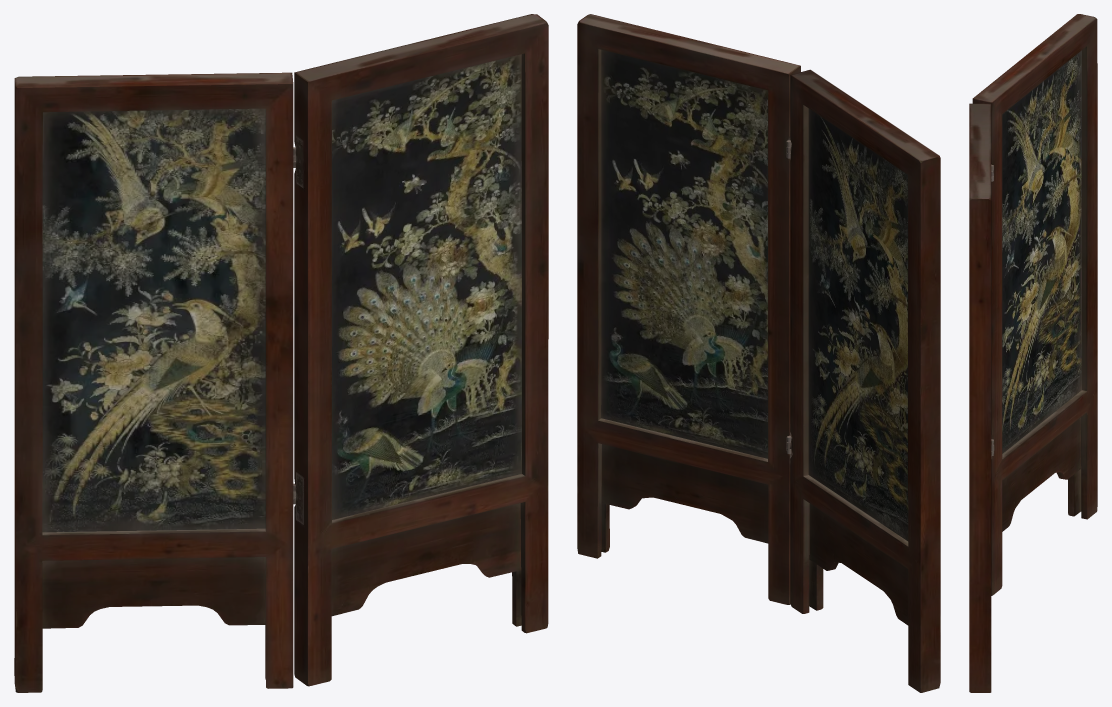
File: chinese_screen_panels.glb
The picture shows the model from 3 angles, left to right: view 1: azimuth 30°, elevation 25°; view 2: azimuth 150°, elevation 25°; view 3: azimuth 270°, elevation 25°; orthographic projection. The views are drawn at different scales.
Parts seen in each view (by area): view 1: chinese_screen_panels_a; view 2: chinese_screen_panels_a; view 3: chinese_screen_panels_a.
Part boxes in pixels (x1,y1,x2,y2): chinese_screen_panels_a: (14,14,548,692); chinese_screen_panels_a: (577,14,940,692); chinese_screen_panels_a: (969,14,1097,692).
Bounding box in the file's own units: 1.29 × 1.6 × 0.3769.
1 material, 1 textured.
